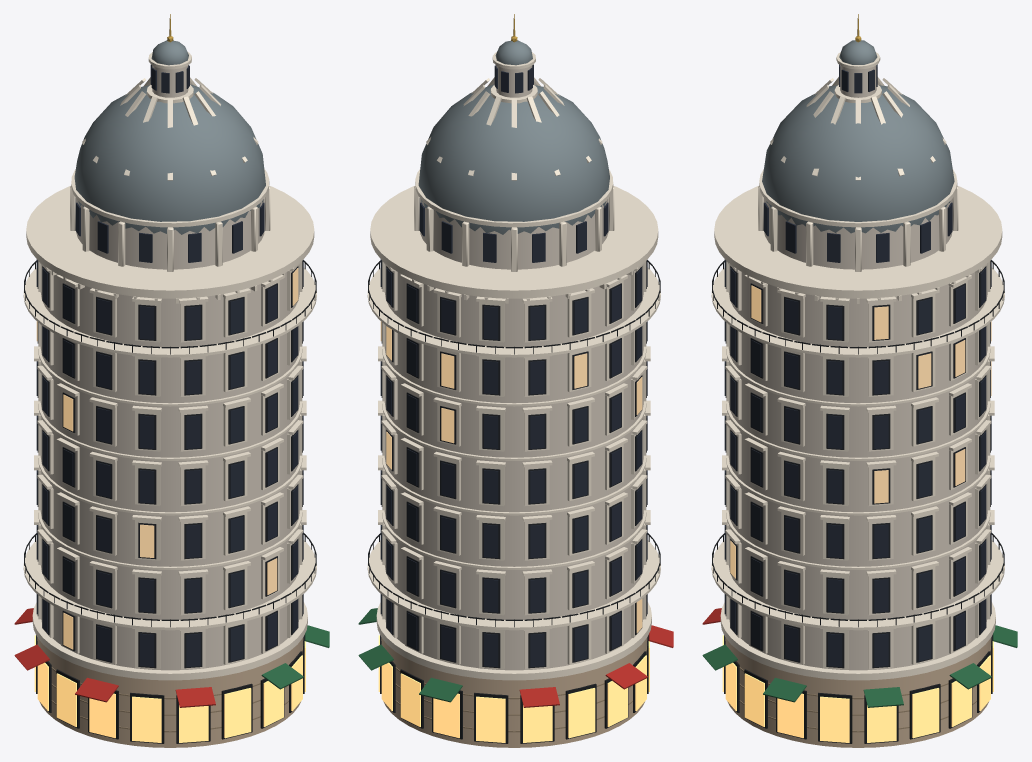
File: building_round.fbx
The picture shows the model from 3 angles, left to right: view 1: azimuth 30°, elevation 25°; view 2: azimuth 150°, elevation 25°; view 3: azimuth 270°, elevation 25°; orthographic projection.
Visible parts, largest first — view 1: building_round; view 2: building_round; view 3: building_round.
Part boxes in pixels (box(x1,y1,x2,y2)): building_round: box(14, 14, 329, 747); building_round: box(358, 14, 673, 747); building_round: box(702, 14, 1017, 747).
Size of the model in its own units: 17.54 by 40.99 by 17.27.
